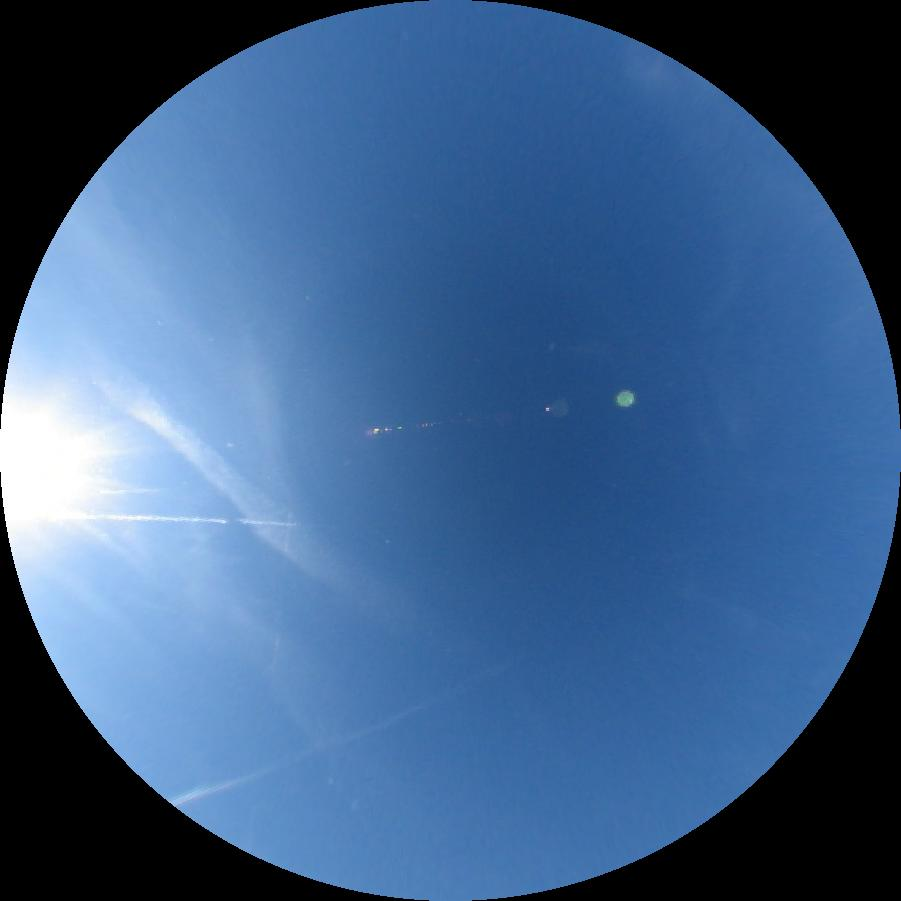contrail old: (170, 652, 521, 808)
contrail veryold: (88, 360, 368, 599)
parasite: (47, 512, 297, 525), (81, 489, 159, 497)
sun: (0, 397, 93, 530)
